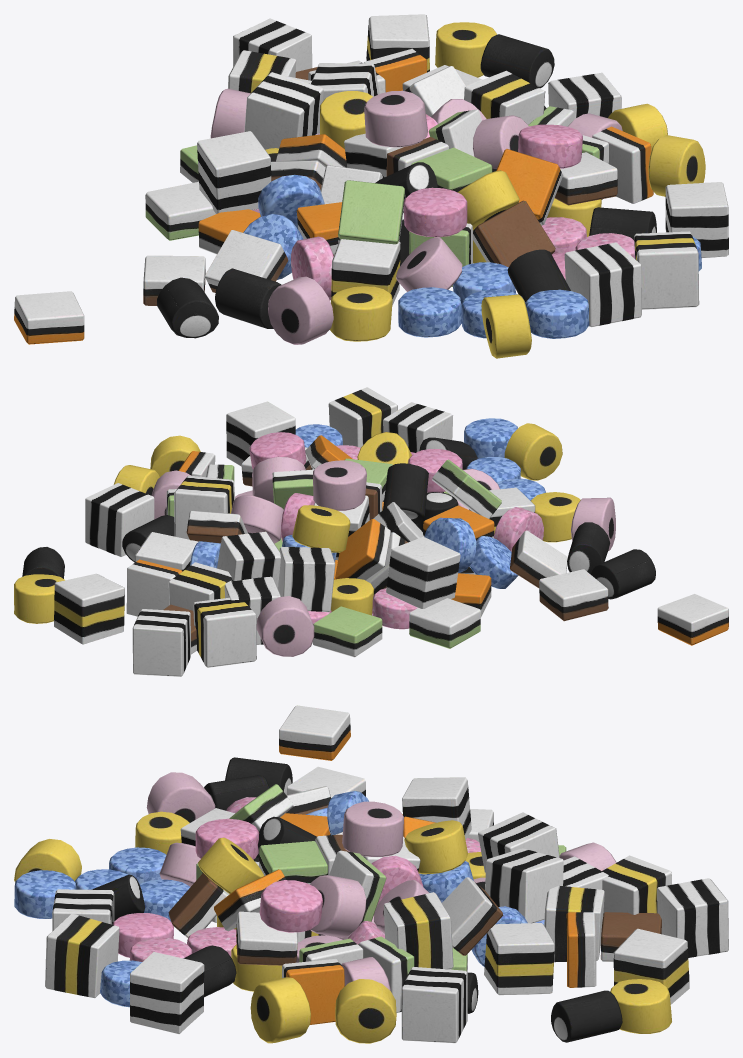
File: allsorts.glb
3 views of the same model, one above another, from view 1: azimuth 30°, elevation 25°; view 2: azimuth 150°, elevation 25°; view 3: azimuth 270°, elevation 25° (orthographic). The views are drawn at different scales.
Parts seen in each view (by area): view 1: Sweets-material; view 2: Sweets-material; view 3: Sweets-material.
Boxes of the visible parts, x1,y1,x2,y2 form: Sweets-material: (14, 14, 728, 358); Sweets-material: (14, 387, 728, 676); Sweets-material: (14, 705, 728, 1043).
Bounding box in the file's own units: 0.2624 × 0.0438 × 0.2481.
1 material, 1 textured.
